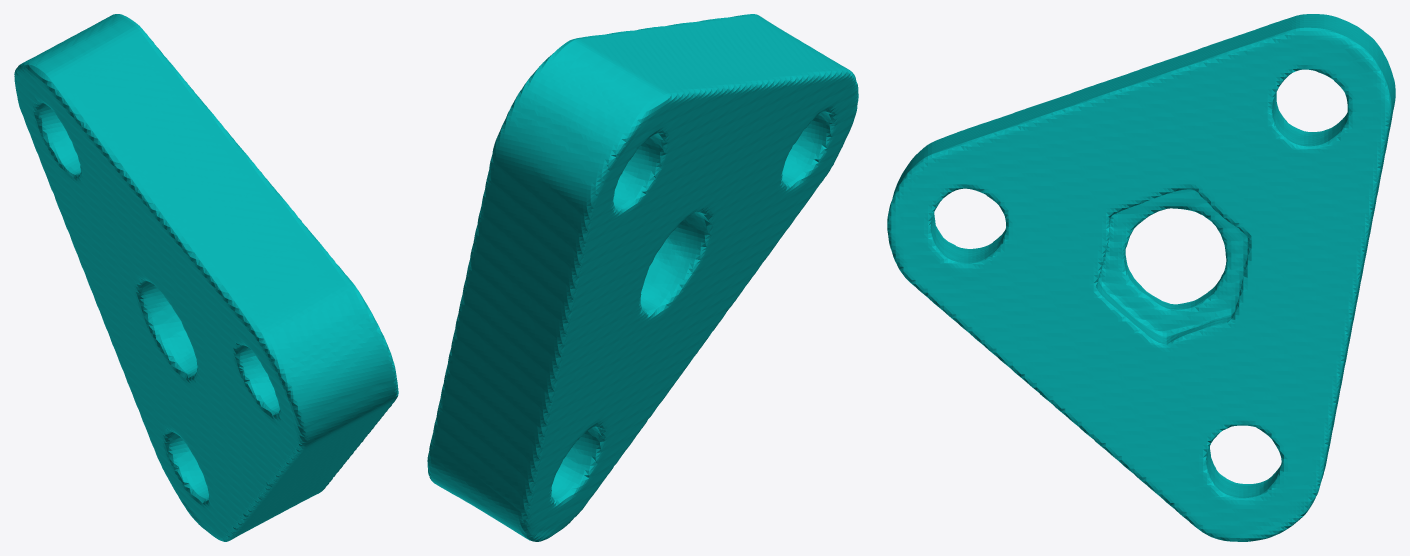
3 views of the same model, side by side, from view 1: azimuth 30°, elevation 25°; view 2: azimuth 150°, elevation 25°; view 3: azimuth 270°, elevation 25° (orthographic). The views are drawn at different scales.
Bounding box in the file's own units: 0.497 × 1.02 × 0.9859.
